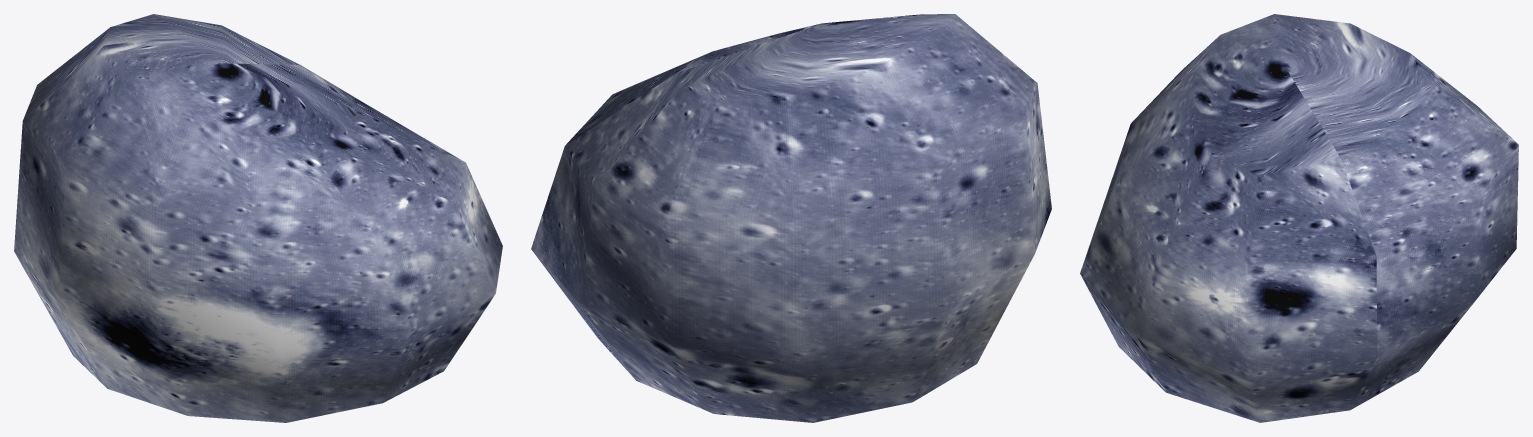
File: meteorito.FBX
3 renders of one model, left to right at view 1: azimuth 30°, elevation 25°; view 2: azimuth 150°, elevation 25°; view 3: azimuth 270°, elevation 25°, orthographic. The views are drawn at different scales.
Visible parts, largest first — view 1: Sphere001; view 2: Sphere001; view 3: Sphere001.
Part boxes in pixels (<box>): Sphere001: <box>14,14,502,422</box>; Sphere001: <box>531,14,1051,422</box>; Sphere001: <box>1080,14,1518,422</box>.
Bounding box in the file's own units: 32.56 × 24.49 × 32.4.
